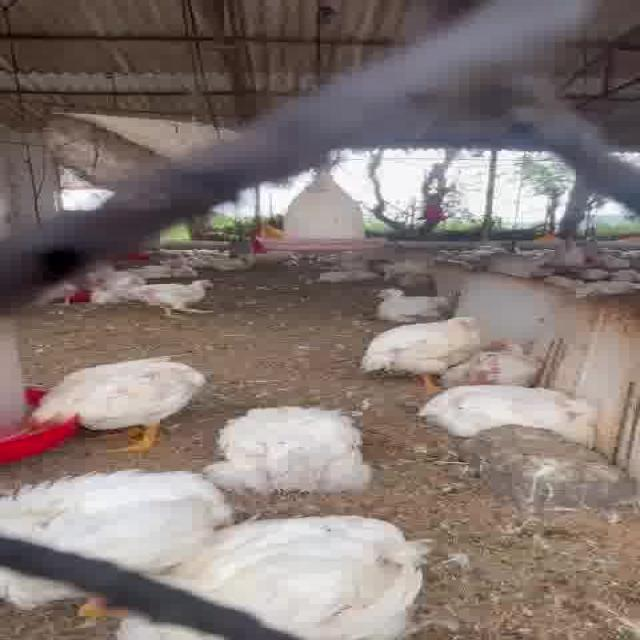AbNormal: (138, 510, 448, 640), (6, 467, 230, 590), (194, 402, 402, 495), (411, 379, 603, 446), (427, 332, 571, 385), (371, 286, 462, 328)
Normal: (22, 353, 215, 452), (354, 312, 484, 376), (115, 265, 236, 322)
